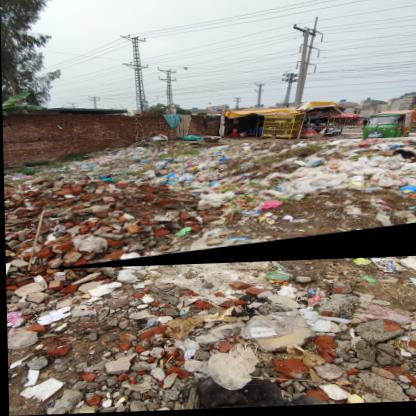Garbage: (29, 140, 416, 273)
